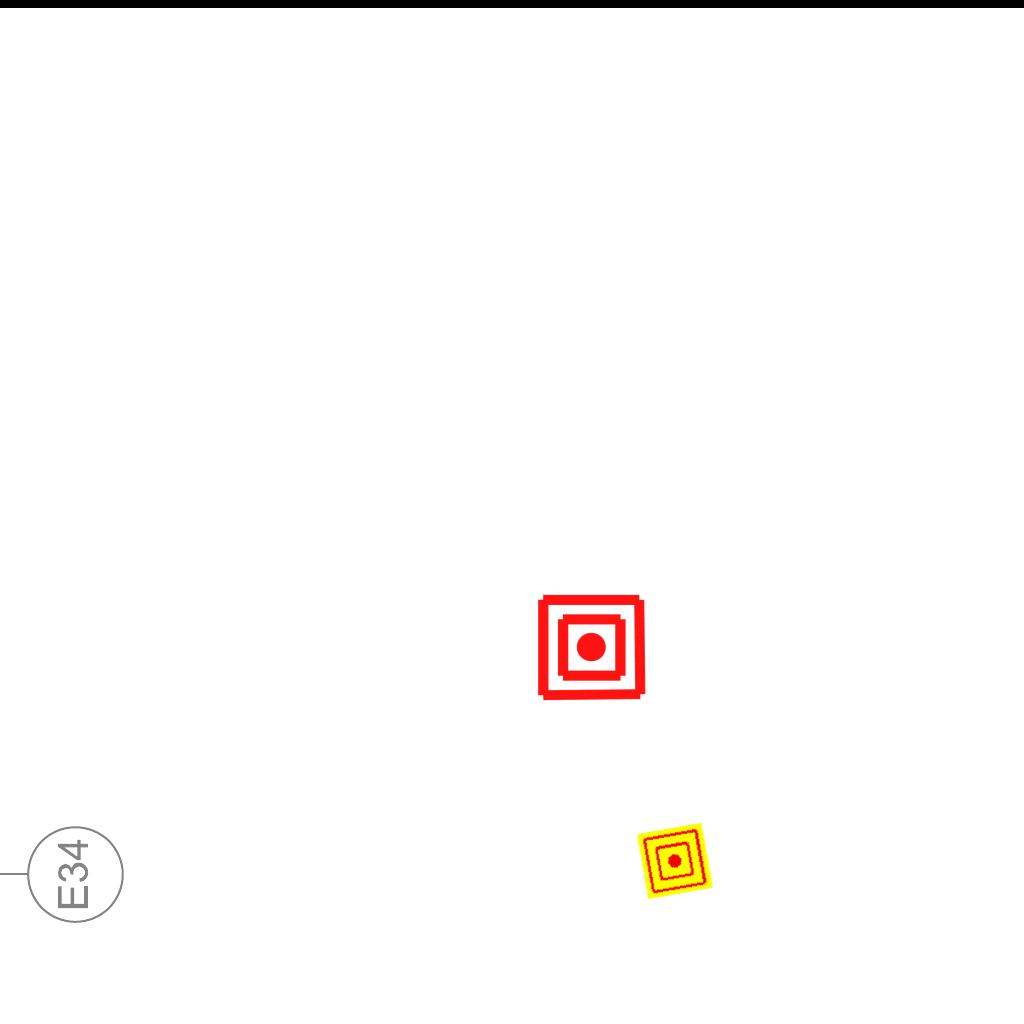NAM-Nichtautomatischer_Melder: (535, 591, 648, 704), (636, 822, 714, 900)
